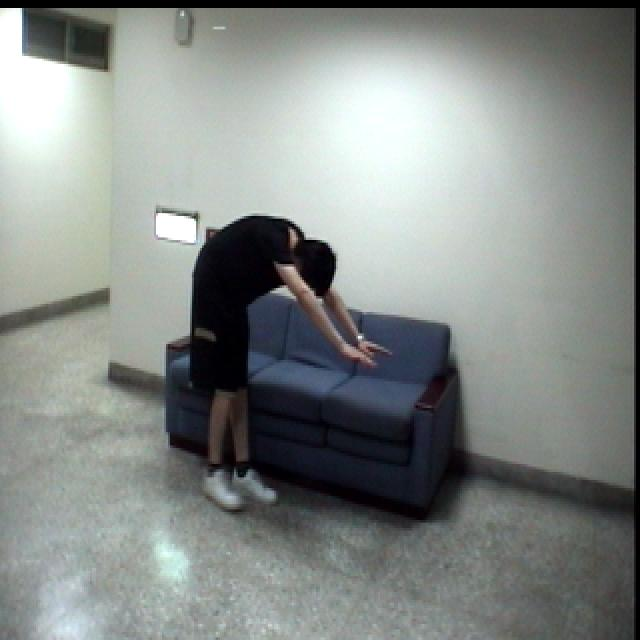bend: (189, 209, 394, 518)
